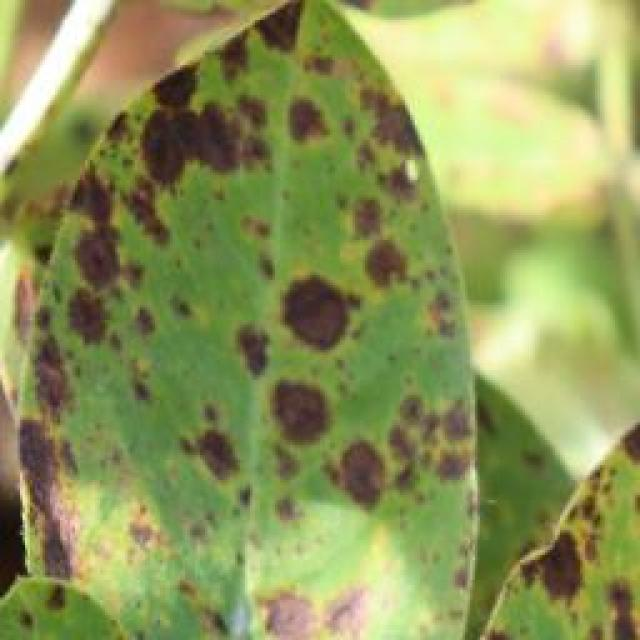Yellowish: (13, 0, 484, 619), (501, 383, 640, 640)
